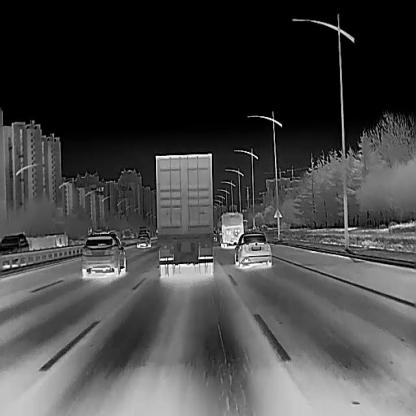bus: (218, 211, 243, 248)
car: (81, 230, 126, 274), (233, 232, 271, 268), (0, 232, 29, 266), (136, 232, 150, 247)
truck: (155, 153, 213, 275)
